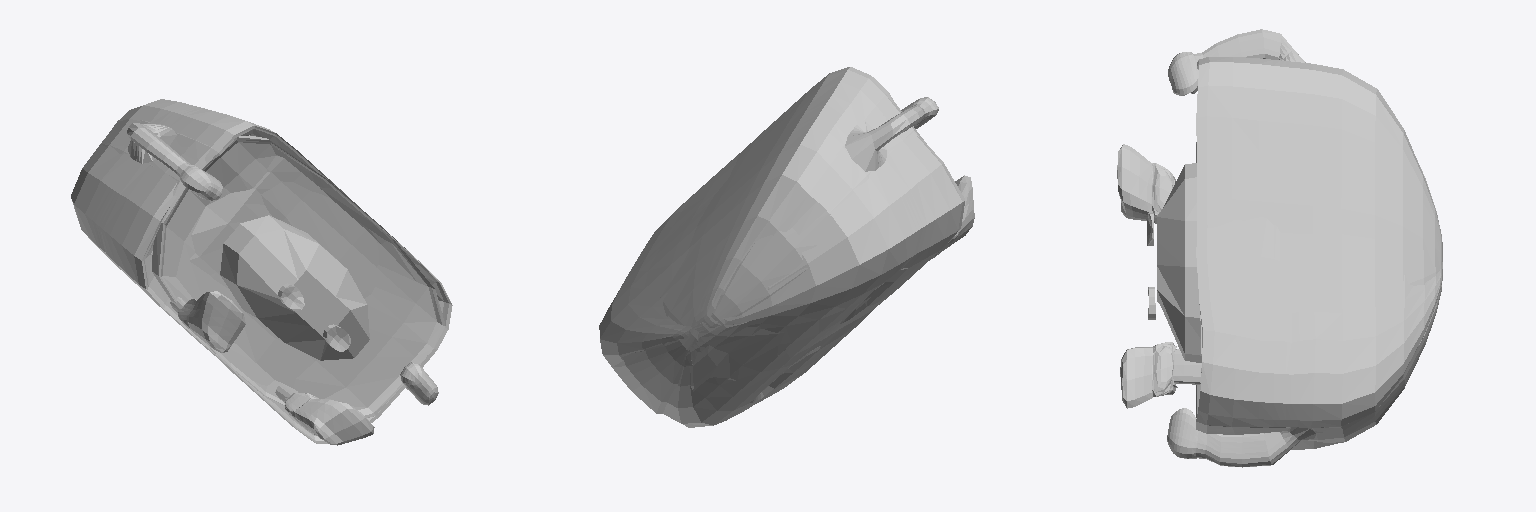
Rendered from Pal_000011.obj.
3 views of the same model, side by side, from view 1: azimuth 30°, elevation 25°; view 2: azimuth 150°, elevation 25°; view 3: azimuth 270°, elevation 25° (orthographic).
Visible parts, largest first — view 1: Cuerpo_de_aguacate_3.001_Cube.002, Hueso_Cubo.003, Ojos_Cubo.002; view 2: Cuerpo_de_aguacate_3.001_Cube.002; view 3: Cuerpo_de_aguacate_3.001_Cube.002, Hueso_Cubo.003.
Part boxes in pixels (x1,y1,x2,y2): Cuerpo_de_aguacate_3.001_Cube.002: (71, 99, 452, 445); Hueso_Cubo.003: (220, 215, 369, 360); Ojos_Cubo.002: (278, 283, 350, 351); Cuerpo_de_aguacate_3.001_Cube.002: (599, 67, 974, 427); Cuerpo_de_aguacate_3.001_Cube.002: (1117, 29, 1442, 467); Hueso_Cubo.003: (1157, 163, 1201, 362).
Bounding box in the file's own units: 1.13 × 1.17 × 1.01.